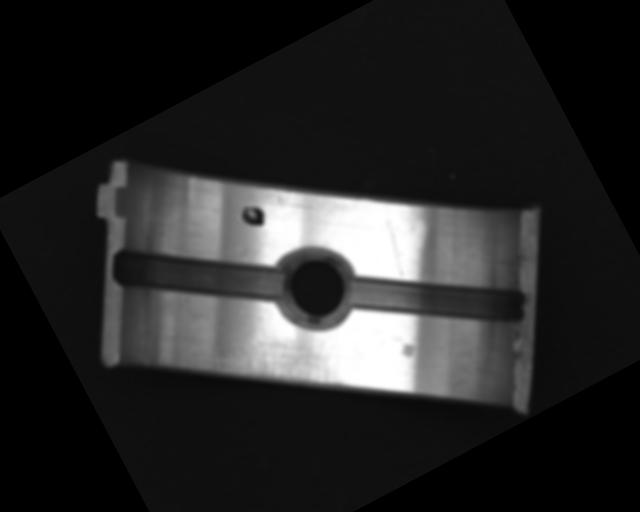blot: (237, 199, 270, 233)
bruise: (396, 338, 420, 362)
gap: (341, 210, 534, 387), (105, 188, 294, 361)
hole: (259, 230, 372, 344)
nick: (374, 216, 416, 276)
scratch: (194, 301, 350, 445)
